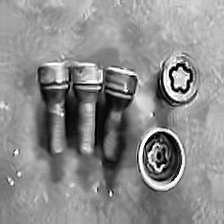defected: (1, 144, 29, 190), (84, 181, 119, 203), (147, 112, 159, 121)
